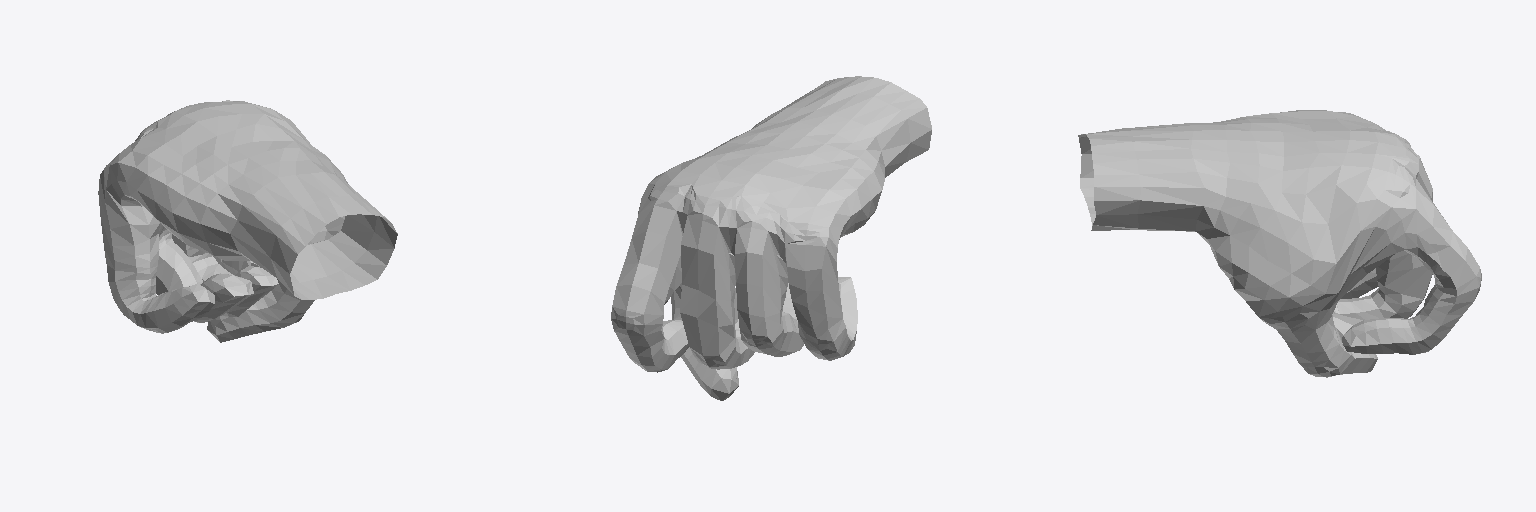
File: bow_Hand.obj
3 views of the same model, side by side, from view 1: azimuth 30°, elevation 25°; view 2: azimuth 150°, elevation 25°; view 3: azimuth 270°, elevation 25° (orthographic).
Visible parts, largest first — view 1: hand; view 2: hand; view 3: hand.
Part boxes in pixels (bbox=[...]): hand: bbox=[98, 100, 397, 342]; hand: bbox=[611, 76, 931, 400]; hand: bbox=[1078, 110, 1481, 377].
Bounding box in the file's own units: 41.41 × 41.5 × 65.92.